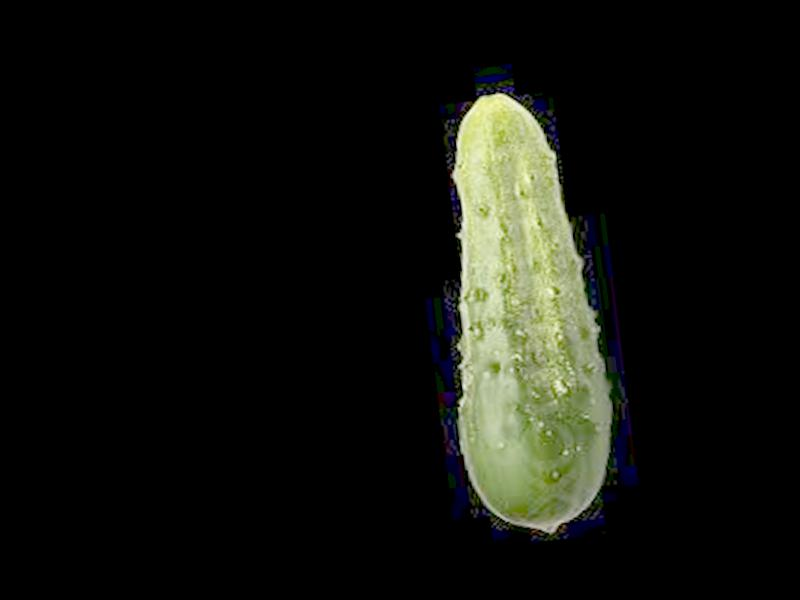Cucumber: (419, 85, 628, 541)
